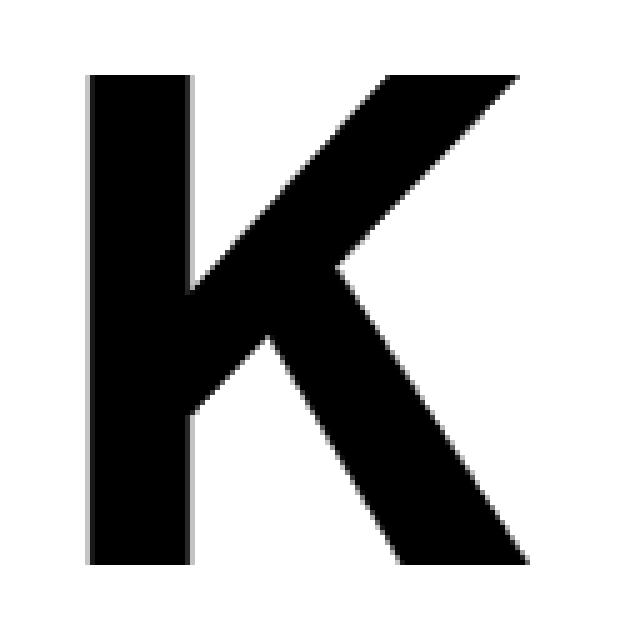K: (80, 60, 535, 570)
